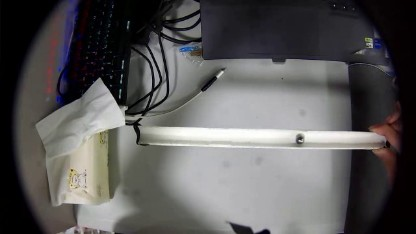gangzhu: (293, 134, 305, 144)
